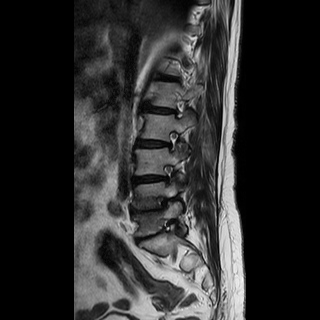RFS0: (162, 126, 182, 158)
RFS2: (157, 158, 177, 190)
RFS3: (154, 191, 173, 221)
